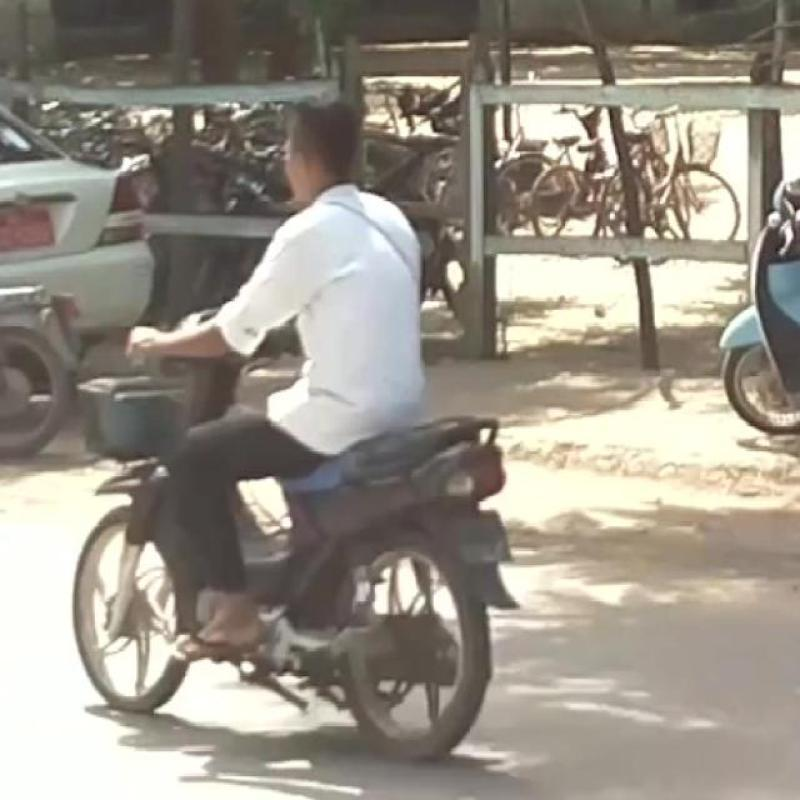nohelmet: (250, 57, 414, 212)
